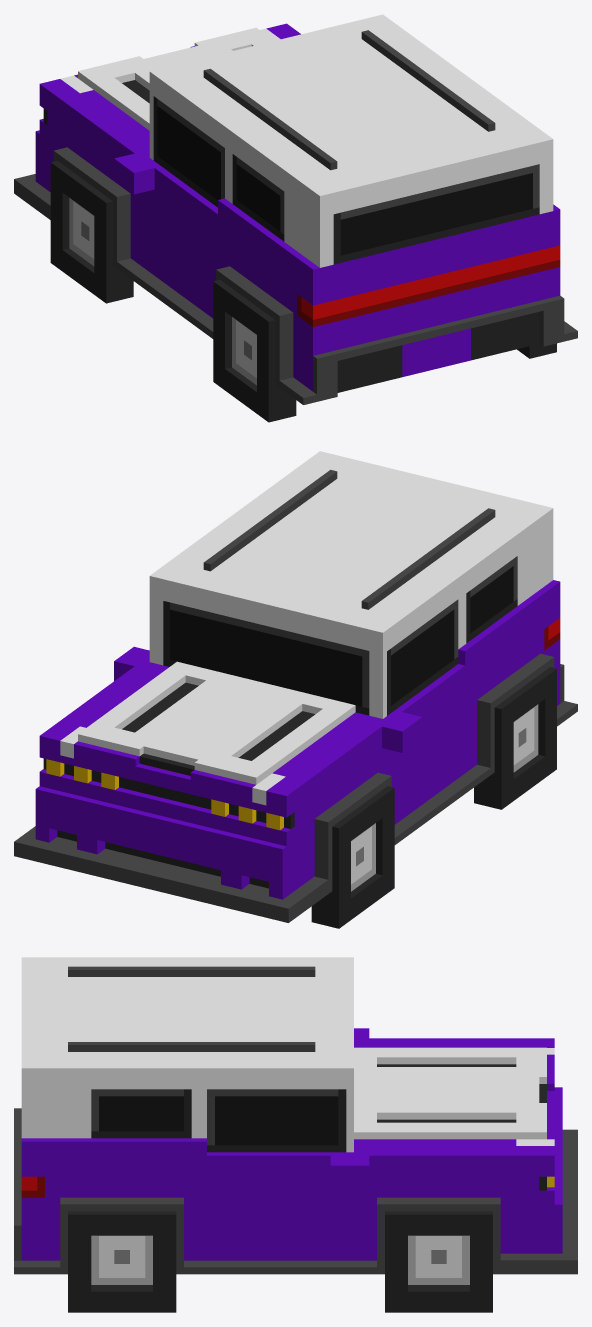
The picture shows the model from 3 angles, top to bottom: view 1: azimuth 30°, elevation 25°; view 2: azimuth 150°, elevation 25°; view 3: azimuth 270°, elevation 25°; orthographic projection. The views are drawn at different scales.
Visible parts, largest first — view 1: alll cars3-17; view 2: alll cars3-17; view 3: alll cars3-17.
Boxes of the visible parts, x1,y1,x2,y2 form: alll cars3-17: (14, 14, 577, 422); alll cars3-17: (14, 451, 577, 928); alll cars3-17: (14, 957, 577, 1312).
Size of the model in its own units: 3.54 by 2.86 by 6.15.
1 material, 1 textured.
